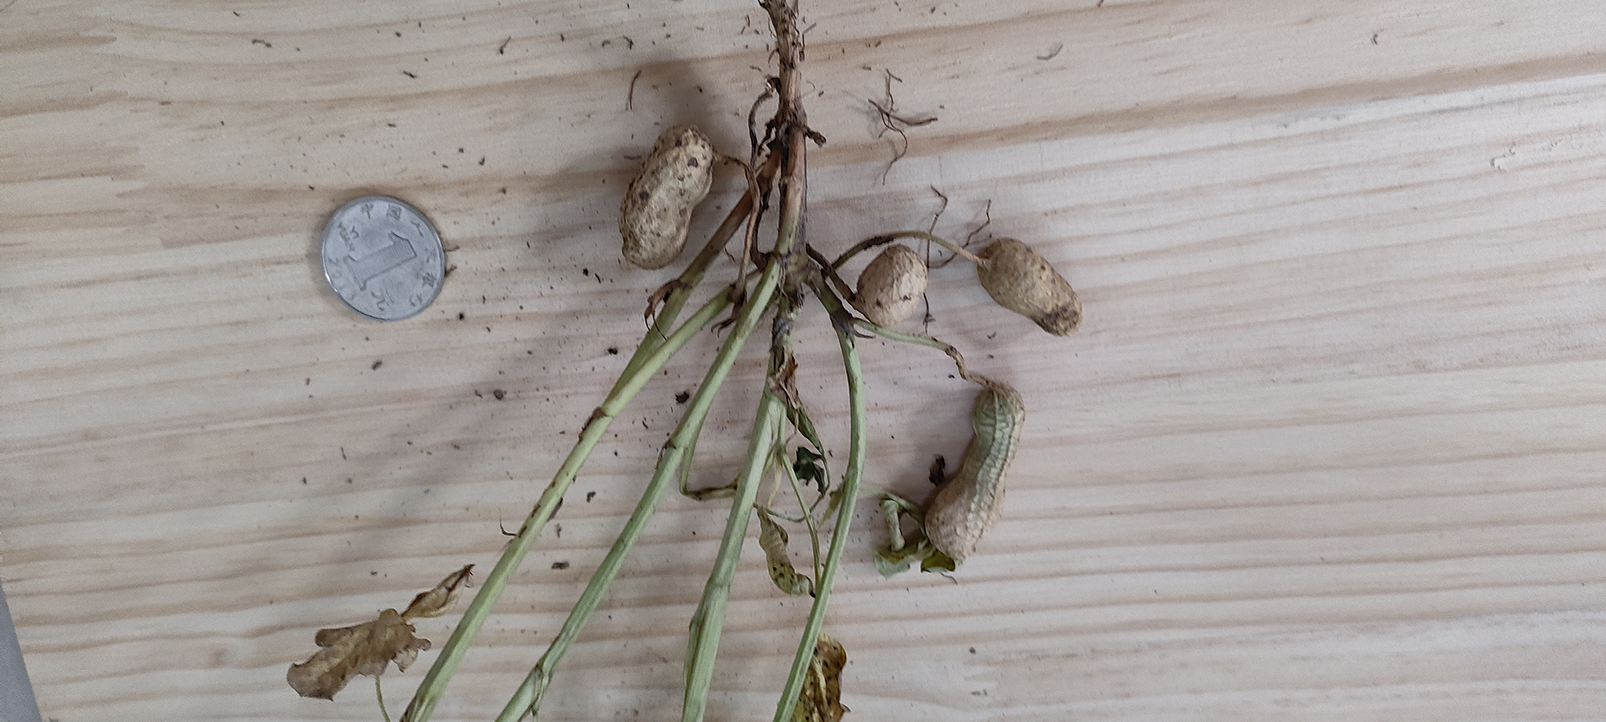h: (921, 378, 1028, 562), (620, 123, 715, 271), (978, 240, 1083, 339), (854, 246, 929, 329)
